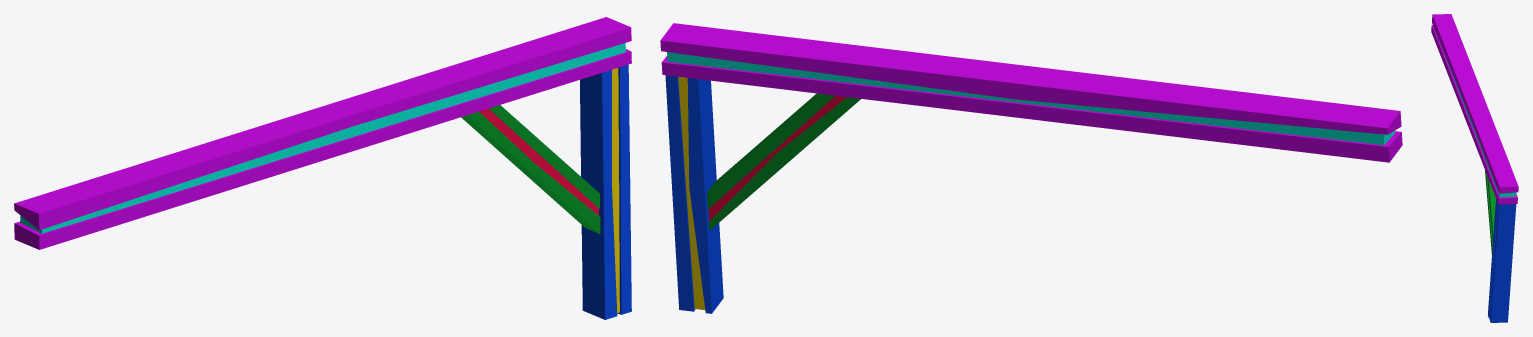
Rendered from Beam.fbx.
3 renders of one model, left to right at view 1: azimuth 30°, elevation 25°; view 2: azimuth 150°, elevation 25°; view 3: azimuth 270°, elevation 25°, orthographic. The views are drawn at different scales.
Visible parts, largest first — view 1: Cube, Cube.001, Cube.002; view 2: Cube, Cube.001, Cube.002; view 3: Cube, Cube.001, Cube.002.
Part boxes in pixels (x1,y1,x2,y2): Cube: (14, 17, 631, 249); Cube.001: (580, 64, 631, 319); Cube.002: (461, 105, 600, 233); Cube: (660, 23, 1402, 162); Cube.001: (665, 75, 723, 313); Cube.002: (707, 93, 860, 230); Cube: (1431, 14, 1518, 204); Cube.001: (1488, 198, 1516, 322); Cube.002: (1485, 170, 1495, 253).
Size of the model in its own units: 1583 by 684 by 361.
